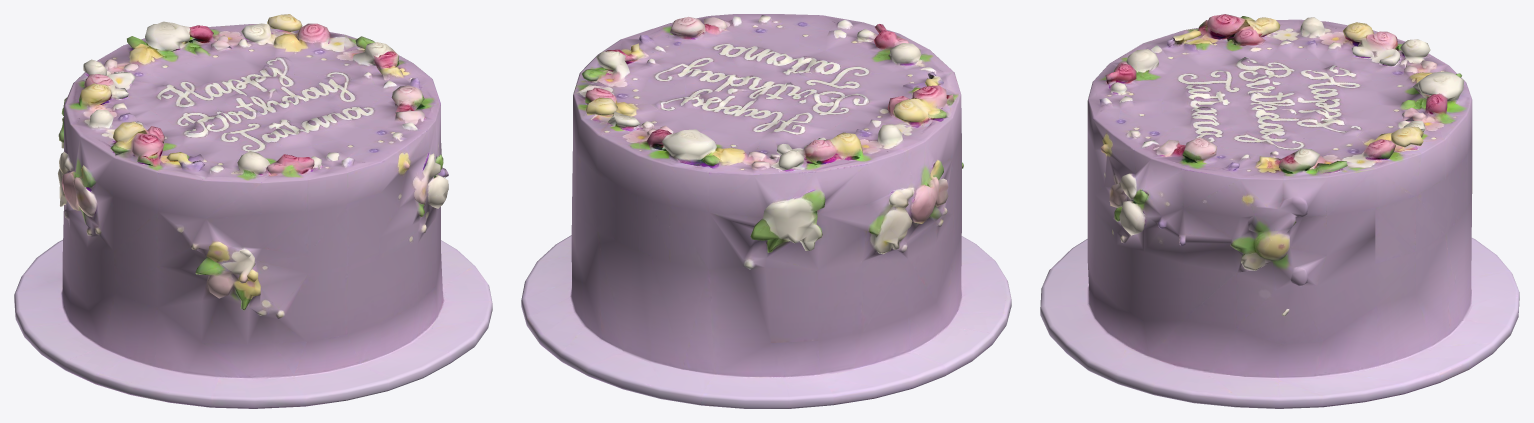
Rendered from happy_bday_cake.glb.
The picture shows the model from 3 angles, left to right: view 1: azimuth 30°, elevation 25°; view 2: azimuth 150°, elevation 25°; view 3: azimuth 270°, elevation 25°; orthographic projection. The views are drawn at different scales.
Size of the model in its own units: 1.91 by 1.01 by 1.9.
1 material, 1 textured.
